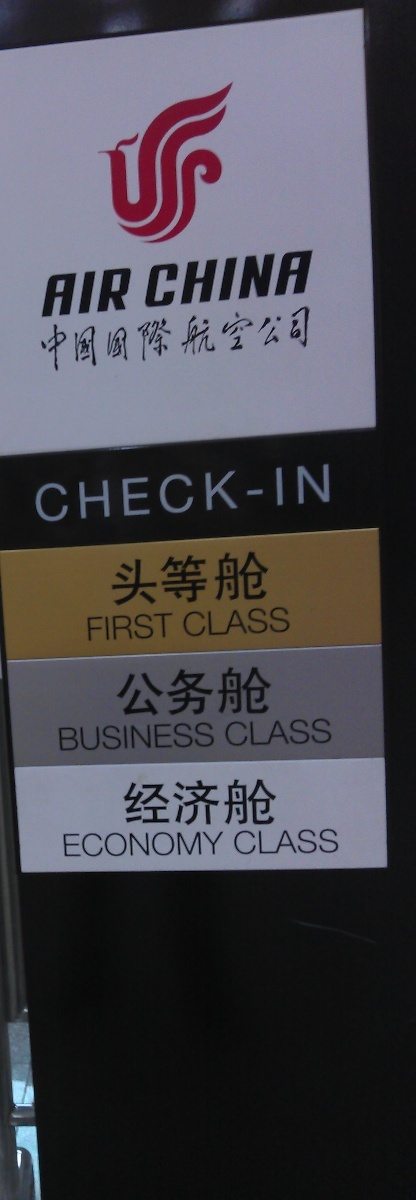text: (49, 303, 64, 374), (65, 303, 80, 374), (81, 303, 96, 374), (97, 303, 112, 374), (113, 303, 128, 374), (129, 303, 144, 374), (145, 303, 160, 374), (161, 303, 176, 374), (177, 303, 192, 374), (193, 303, 208, 374), (209, 303, 224, 374), (225, 303, 240, 374), (241, 303, 256, 374), (257, 303, 272, 374), (273, 303, 288, 374), (289, 303, 304, 374), (113, 548, 128, 611), (129, 548, 144, 611), (145, 548, 160, 611), (161, 548, 176, 611), (177, 548, 192, 611), (193, 548, 208, 611), (209, 548, 224, 611), (225, 548, 240, 611), (241, 548, 256, 611), (145, 249, 160, 310), (161, 249, 176, 310), (177, 249, 192, 310), (193, 249, 208, 310), (209, 249, 224, 310), (225, 249, 240, 310), (241, 249, 256, 310), (257, 249, 272, 310), (273, 249, 288, 310), (289, 249, 304, 310), (129, 663, 144, 724), (145, 663, 160, 724), (161, 663, 176, 724), (177, 663, 192, 724), (193, 663, 208, 724), (209, 663, 224, 724), (225, 663, 240, 724), (241, 663, 256, 724), (257, 663, 272, 724), (33, 464, 48, 523), (49, 464, 64, 523), (65, 464, 80, 523), (81, 464, 96, 523), (97, 464, 112, 523), (113, 464, 128, 523), (129, 464, 144, 523), (145, 464, 160, 523), (161, 464, 176, 523), (177, 464, 192, 523), (193, 464, 208, 523), (209, 464, 224, 523), (225, 464, 240, 523), (241, 464, 256, 523), (257, 464, 272, 523), (273, 464, 288, 523), (289, 464, 304, 523), (305, 464, 320, 523), (257, 548, 271, 611), (129, 777, 144, 832), (145, 777, 160, 832), (161, 777, 176, 832), (177, 777, 192, 832), (193, 777, 208, 832), (209, 777, 224, 832), (225, 777, 240, 832), (241, 777, 256, 832), (257, 777, 272, 832), (115, 663, 128, 724), (37, 303, 48, 374), (305, 303, 316, 374), (49, 267, 64, 319), (65, 267, 80, 319), (81, 267, 96, 319), (97, 267, 112, 319), (113, 267, 128, 319), (305, 249, 316, 310), (321, 464, 331, 523), (37, 267, 48, 319), (193, 605, 208, 639), (209, 605, 224, 639), (225, 605, 240, 639), (241, 605, 256, 639), (257, 605, 272, 639), (273, 605, 288, 639), (65, 721, 80, 755), (81, 721, 96, 755), (97, 721, 112, 755), (113, 721, 128, 755), (129, 721, 144, 755), (145, 721, 160, 755), (161, 721, 176, 755), (177, 721, 192, 755), (193, 721, 208, 755), (129, 267, 138, 319), (97, 611, 112, 642), (113, 611, 128, 642), (129, 611, 144, 642), (145, 611, 160, 642), (161, 611, 176, 642), (225, 717, 240, 748), (241, 717, 256, 748), (257, 717, 272, 748), (273, 717, 288, 748), (289, 717, 304, 748), (305, 717, 320, 748), (65, 830, 80, 861), (81, 830, 96, 861), (97, 830, 112, 861), (113, 830, 128, 861), (129, 830, 144, 861), (145, 830, 160, 861), (161, 830, 176, 861), (177, 830, 192, 861), (193, 830, 208, 861), (209, 830, 224, 861), (241, 827, 256, 857), (257, 827, 272, 857), (273, 827, 288, 857), (289, 827, 304, 857), (305, 827, 320, 857), (321, 827, 336, 857), (321, 717, 334, 748), (181, 605, 192, 639), (85, 611, 96, 642), (107, 548, 112, 611), (273, 777, 278, 832), (140, 249, 144, 310), (57, 721, 64, 755), (209, 721, 216, 755), (124, 777, 128, 832), (233, 827, 240, 857), (273, 663, 275, 724), (337, 827, 341, 857), (289, 605, 292, 639), (225, 830, 227, 861), (177, 611, 178, 642), (63, 830, 64, 861)
